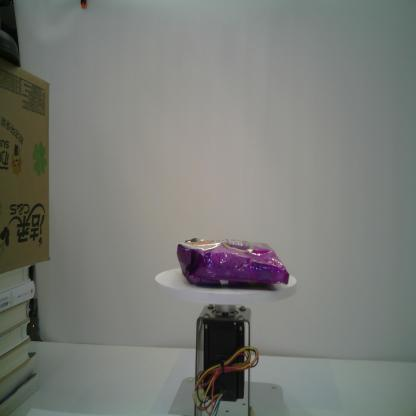Instant Noodles: (176, 235, 289, 288)
